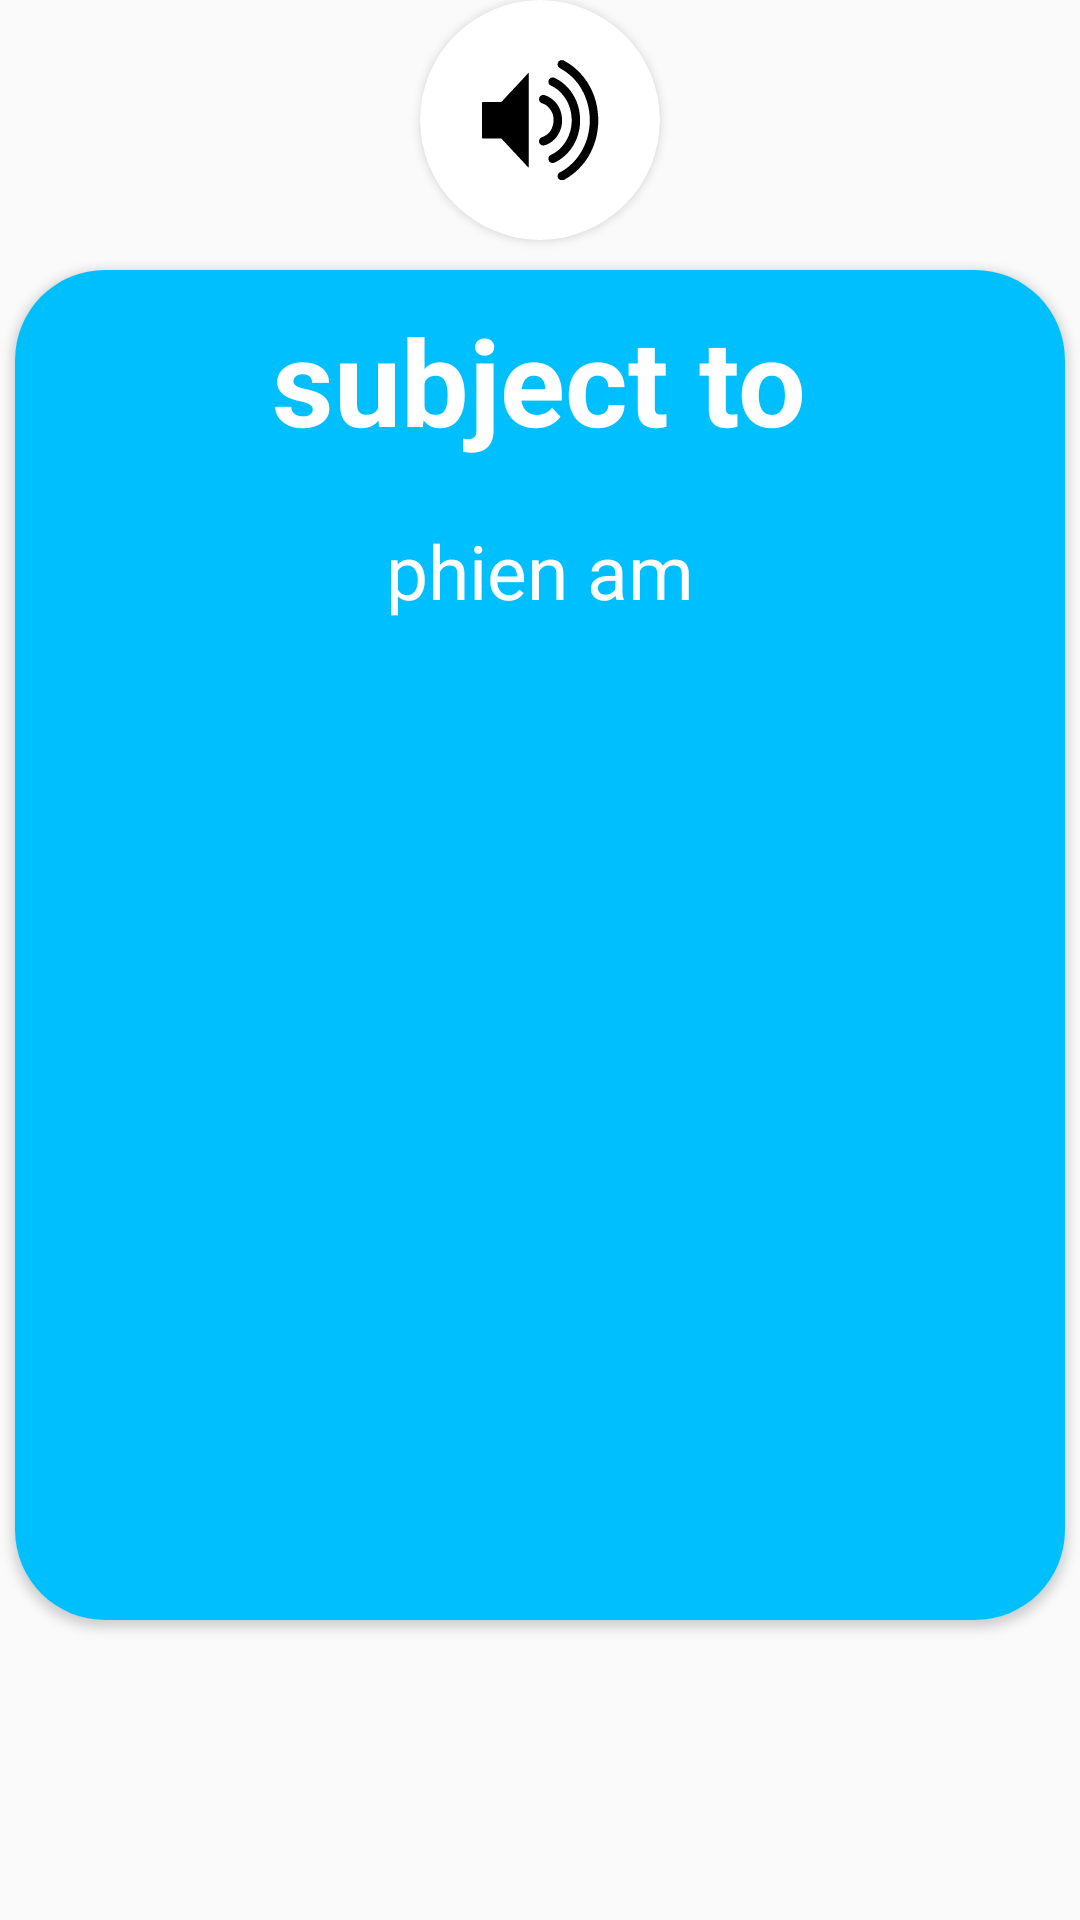

Point at icon controls on the screen. Image size 1080px x 1920px, points as [x,y].
loud speaker: [540,120]
